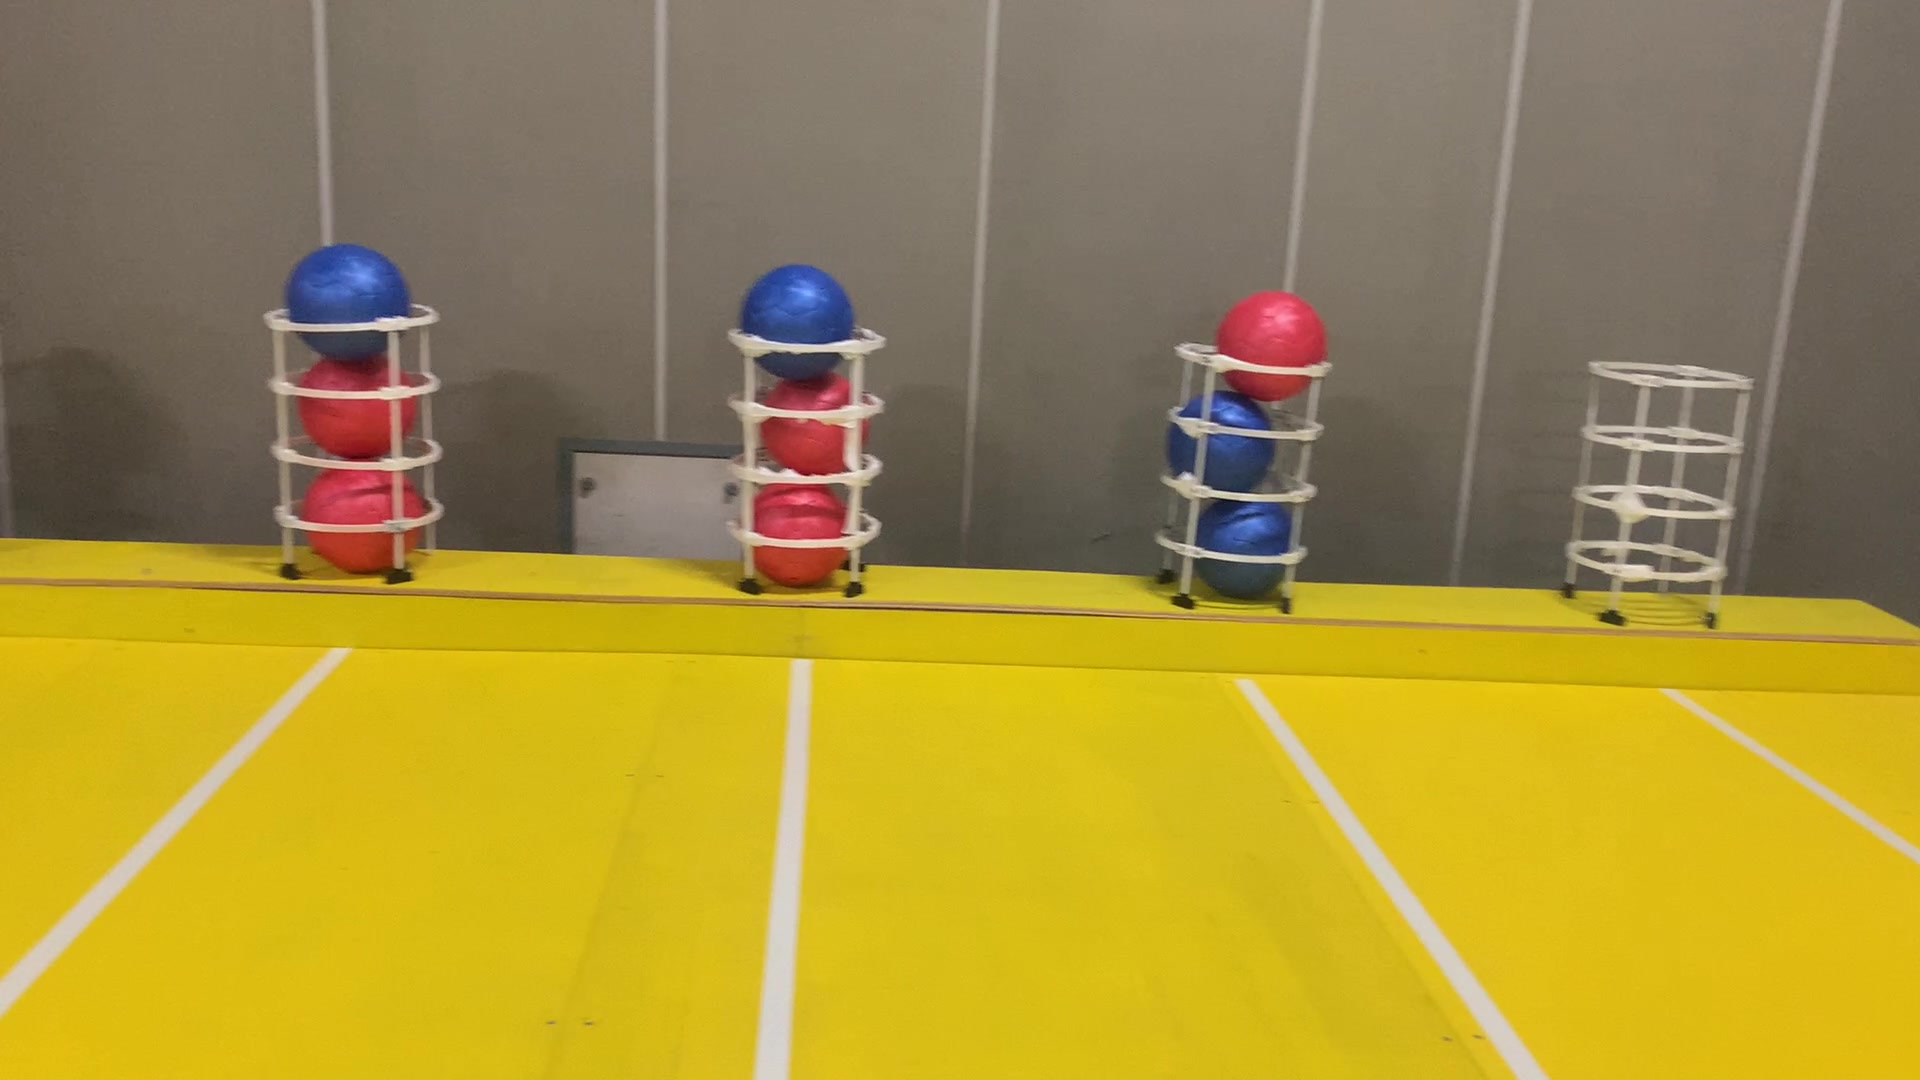blue: (270, 236, 414, 364), (728, 260, 856, 377), (1188, 487, 1305, 608), (1155, 382, 1279, 496)
red: (295, 448, 433, 580), (1205, 277, 1328, 407), (756, 367, 881, 487), (298, 342, 423, 458), (735, 477, 857, 589)
